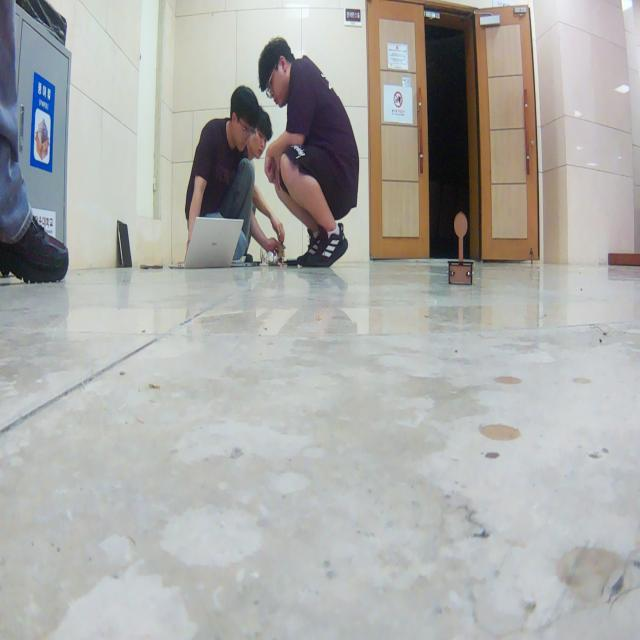target: (447, 210, 475, 286)
